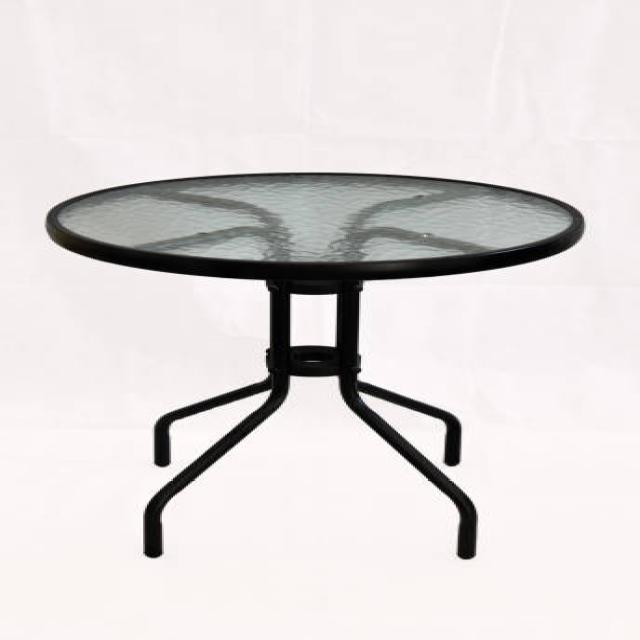table: (42, 170, 586, 560)
